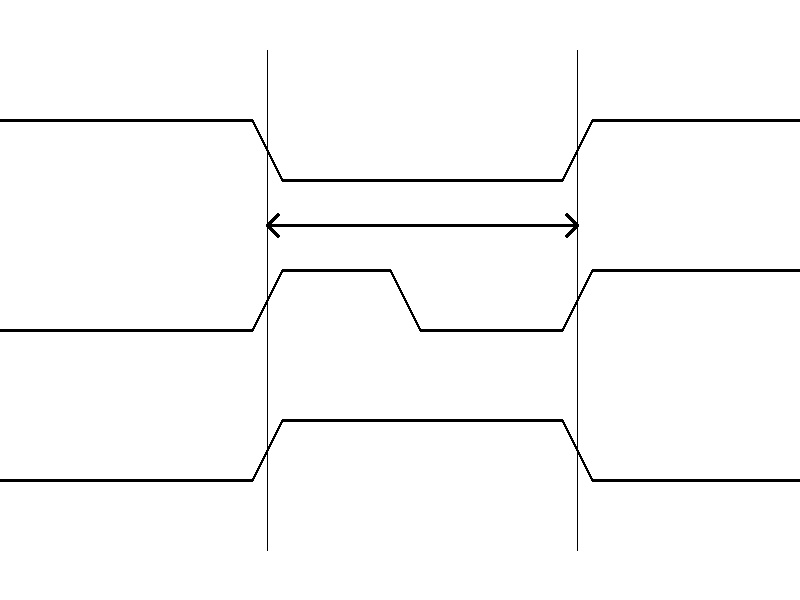double_arrow: (267, 210, 577, 240)
